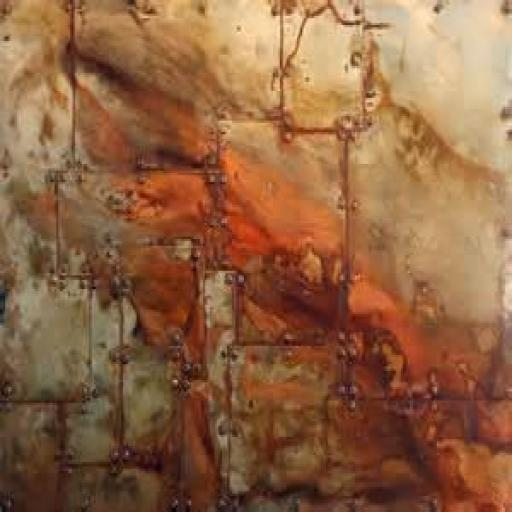segmentation: (44, 0, 502, 505)
